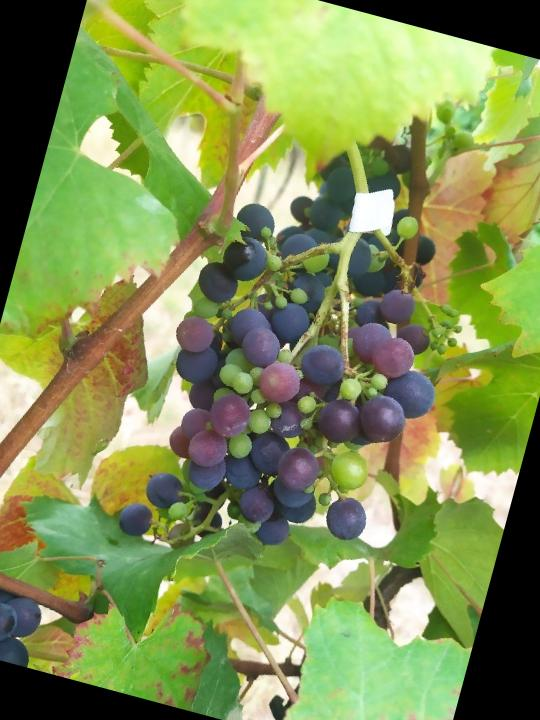grape: (112, 164, 487, 608)
